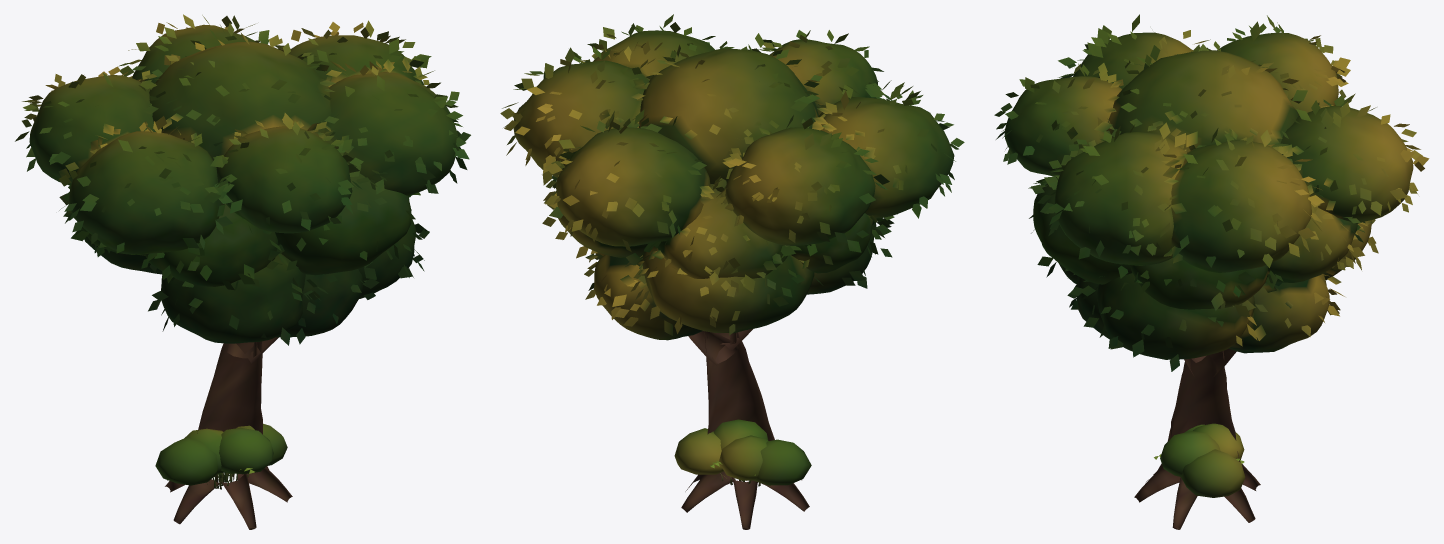
The model's file is nature.glb.
The picture shows the model from 3 angles, left to right: view 1: azimuth 30°, elevation 25°; view 2: azimuth 150°, elevation 25°; view 3: azimuth 270°, elevation 25°; orthographic projection.
Parts seen in each view (by area): view 1: TreeCanopy, TreeLeaves, TreeTrunk, Bush; view 2: TreeCanopy, TreeLeaves, TreeTrunk, Bush; view 3: TreeCanopy, TreeLeaves, TreeTrunk, Bush.
Boxes of the visible parts, bbox=[...] form: TreeCanopy: bbox=[29, 24, 458, 343]; TreeLeaves: bbox=[15, 14, 470, 345]; TreeTrunk: bbox=[165, 337, 292, 529]; Bush: bbox=[155, 423, 287, 485]; TreeCanopy: bbox=[513, 30, 954, 340]; TreeLeaves: bbox=[500, 14, 964, 335]; TreeTrunk: bbox=[681, 329, 809, 529]; Bush: bbox=[674, 419, 811, 485]; TreeCanopy: bbox=[1004, 32, 1413, 359]; TreeLeaves: bbox=[994, 14, 1429, 371]; TreeTrunk: bbox=[1134, 348, 1260, 529]; Bush: bbox=[1160, 423, 1245, 497].
Bounding box in the file's own units: 12.21 × 13.15 × 11.41.
